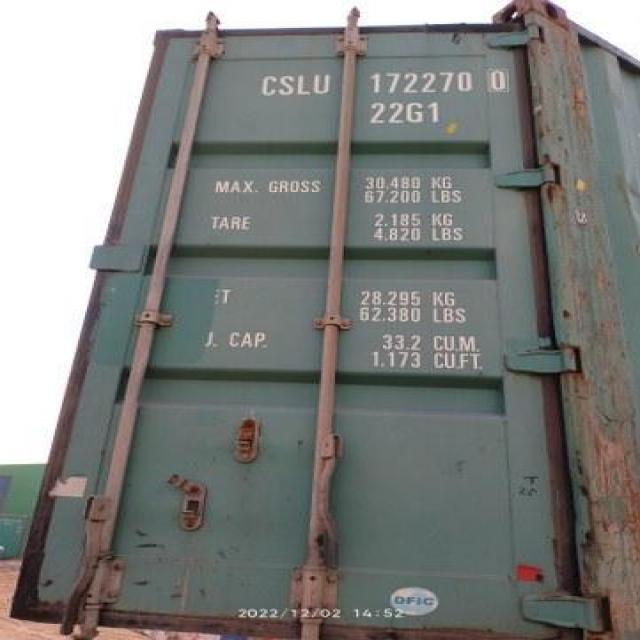ISO: (372, 102, 443, 126)
container_number: (254, 68, 502, 98)
